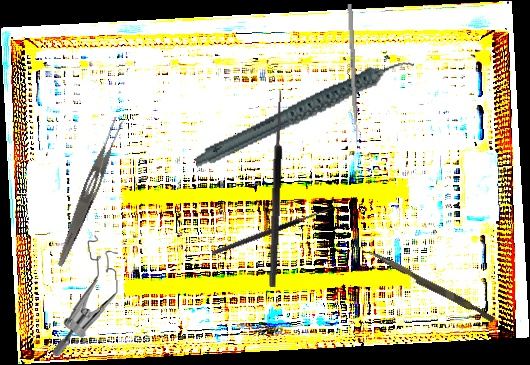Dressing Forceps: (54, 115, 127, 270)
Handpiece: (183, 57, 427, 170)
Hook Surgical: (209, 197, 337, 257), (259, 88, 285, 287)
Pusher: (365, 249, 497, 323), (347, 3, 360, 152)
Speculum: (46, 233, 124, 357)
